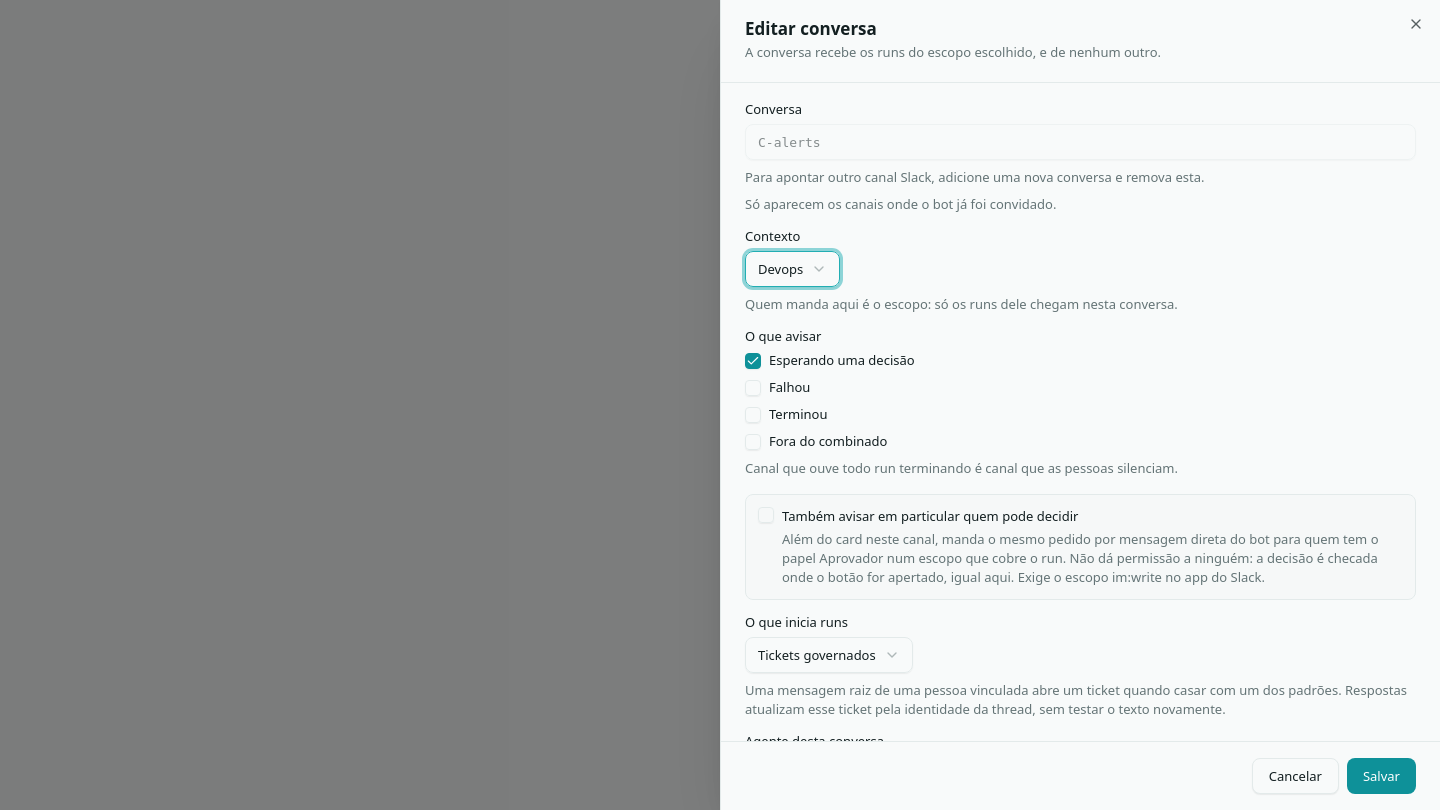
Test: conversation configuration › refuses ticket patterns beyond the server's bounded contract
The image size is (1440, 810).
Click the button "Salvar" at (1381, 776), box [1347,758,1416,794]
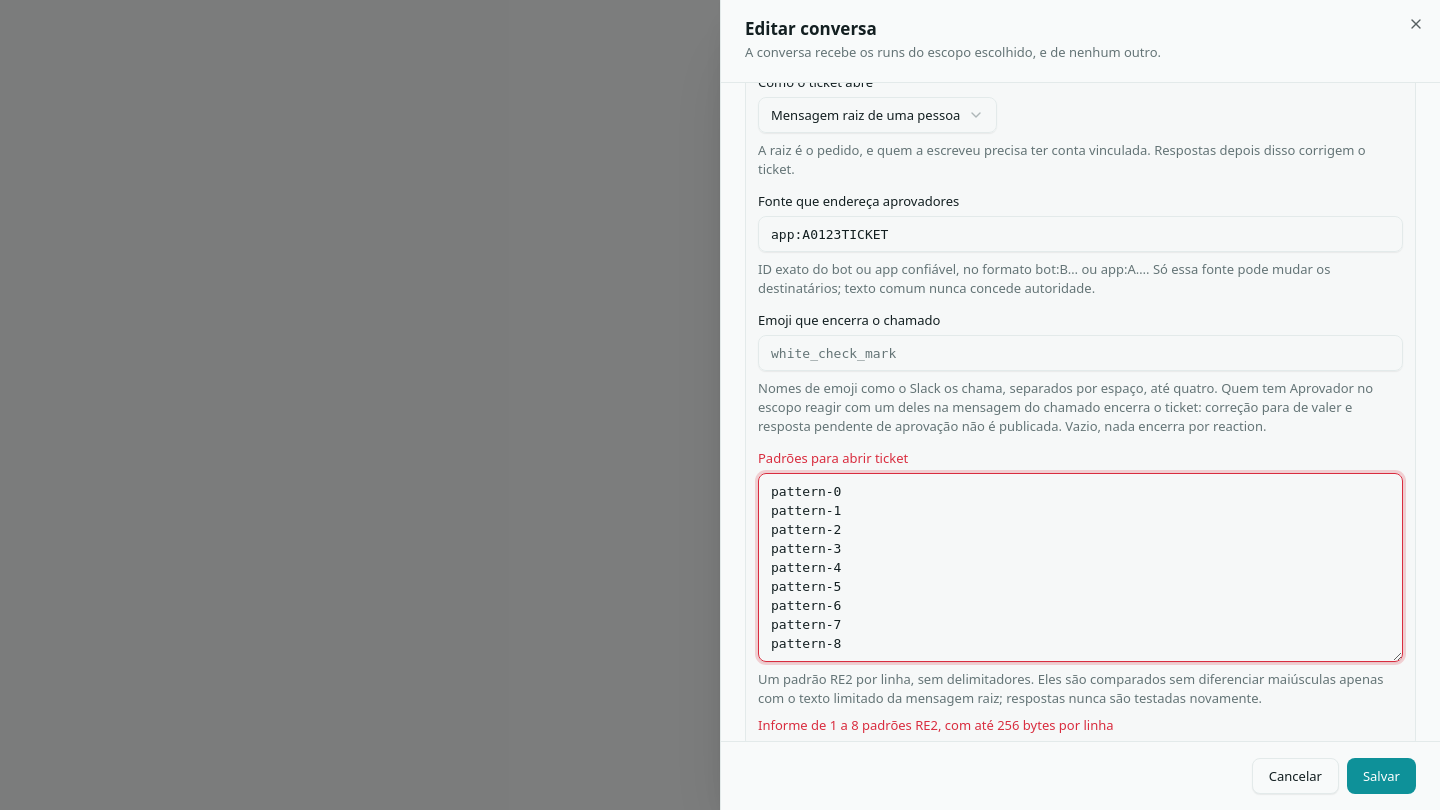
Now the text "Informe de 1 a 8 padrões RE2, com até 256 bytes por linha" is shown, box [758,716,1114,734]
